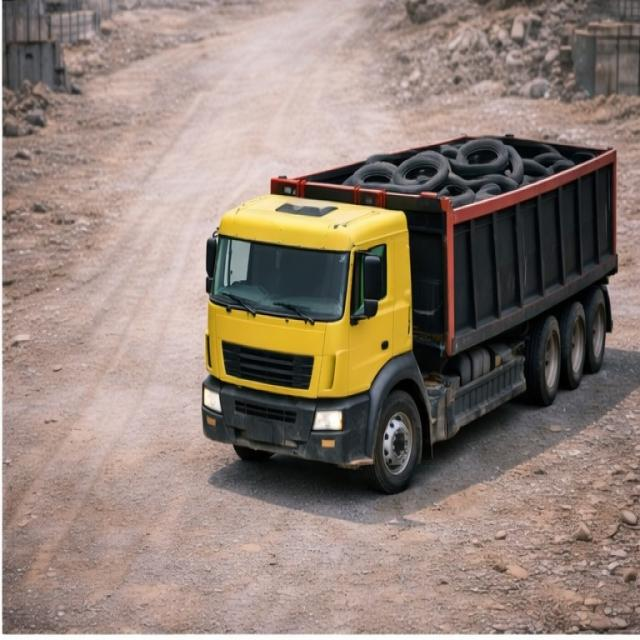Box: (275, 133, 623, 220)
Truck: (192, 100, 630, 487)
